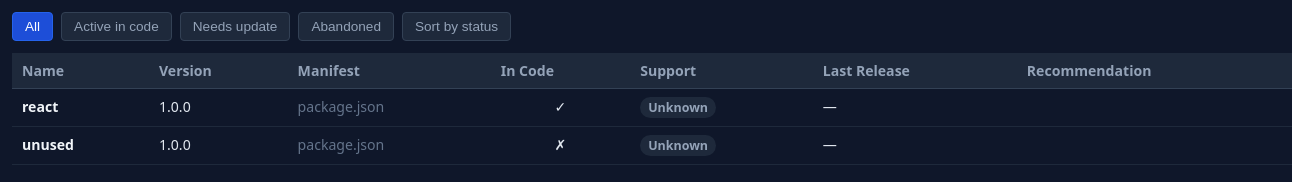
Test: TechnologyTable › filters to active-in-code
What coordinates should you click on to do the following:
click the button "Active in code"
I would click on:
 (116, 26)
Its box is [61,12,172,41].
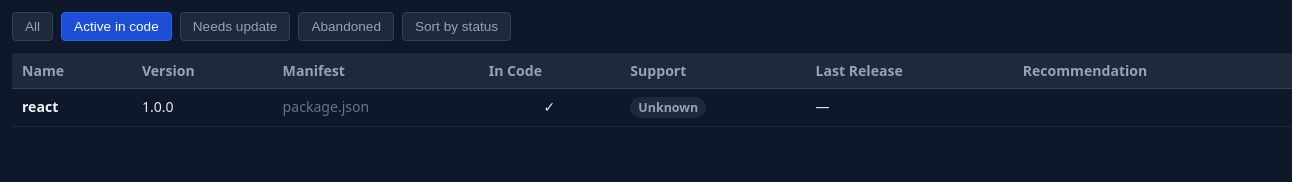
Expected: the text "react" is shown, [12,88,132,126]
Expected: the text "unused" is gone
